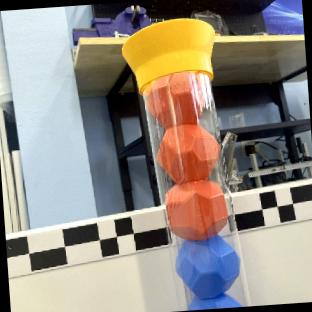V5_BLUE: (174, 231, 244, 306), (188, 292, 241, 310)
V5_RED: (163, 178, 227, 241), (145, 69, 211, 130), (156, 123, 219, 182)
